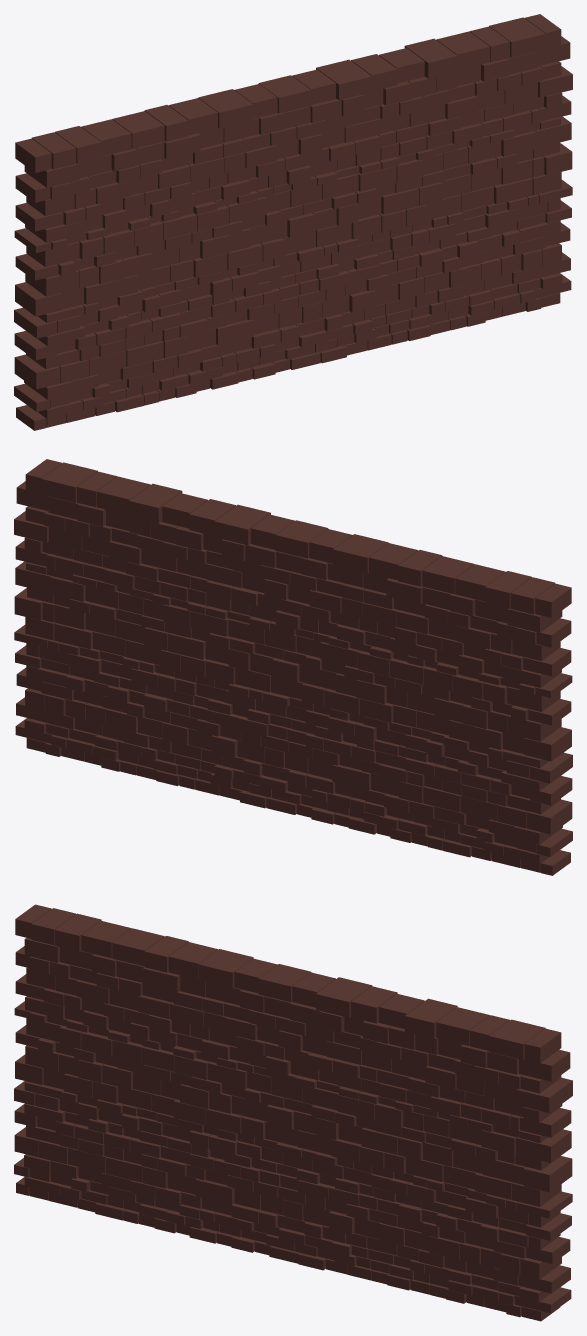
The model's file is BrickWallSmall.fbx.
3 renders of one model, top to bottom at view 1: azimuth 30°, elevation 25°; view 2: azimuth 150°, elevation 25°; view 3: azimuth 330°, elevation 25°, orthographic.
Parts seen in each view (by area): view 1: Wall.002; view 2: Wall.002; view 3: Wall.002.
Boxes of the visible parts, x1=… form: Wall.002: x1=14, y1=14, x2=572, y2=430; Wall.002: x1=14, y1=459, x2=572, y2=875; Wall.002: x1=14, y1=904, x2=572, y2=1321.
Size of the model in its own units: 3057 by 1495 by 234.
